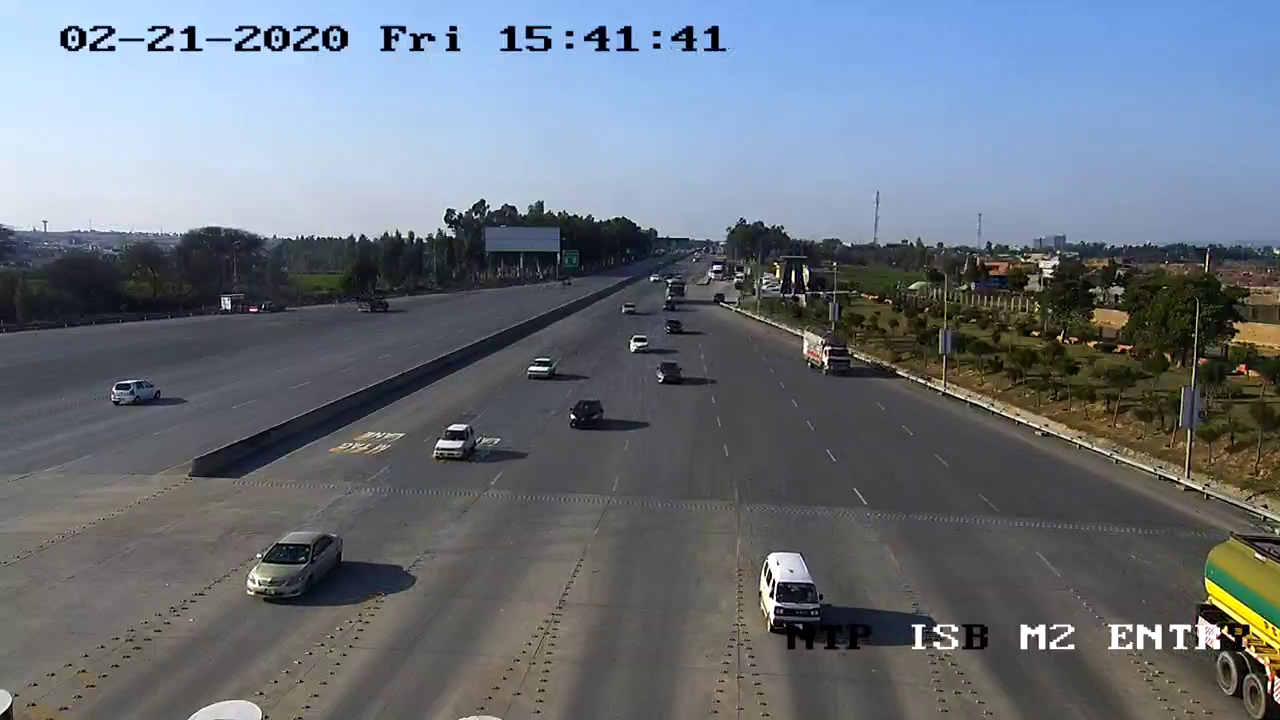f1: (422, 412, 483, 472), (562, 395, 609, 437)
f2: (234, 520, 354, 611), (746, 540, 833, 631)
